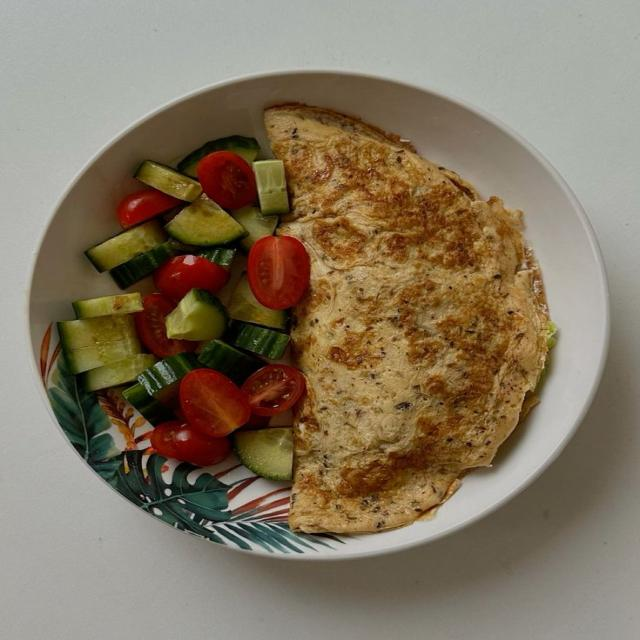omelette: (265, 105, 547, 532)
